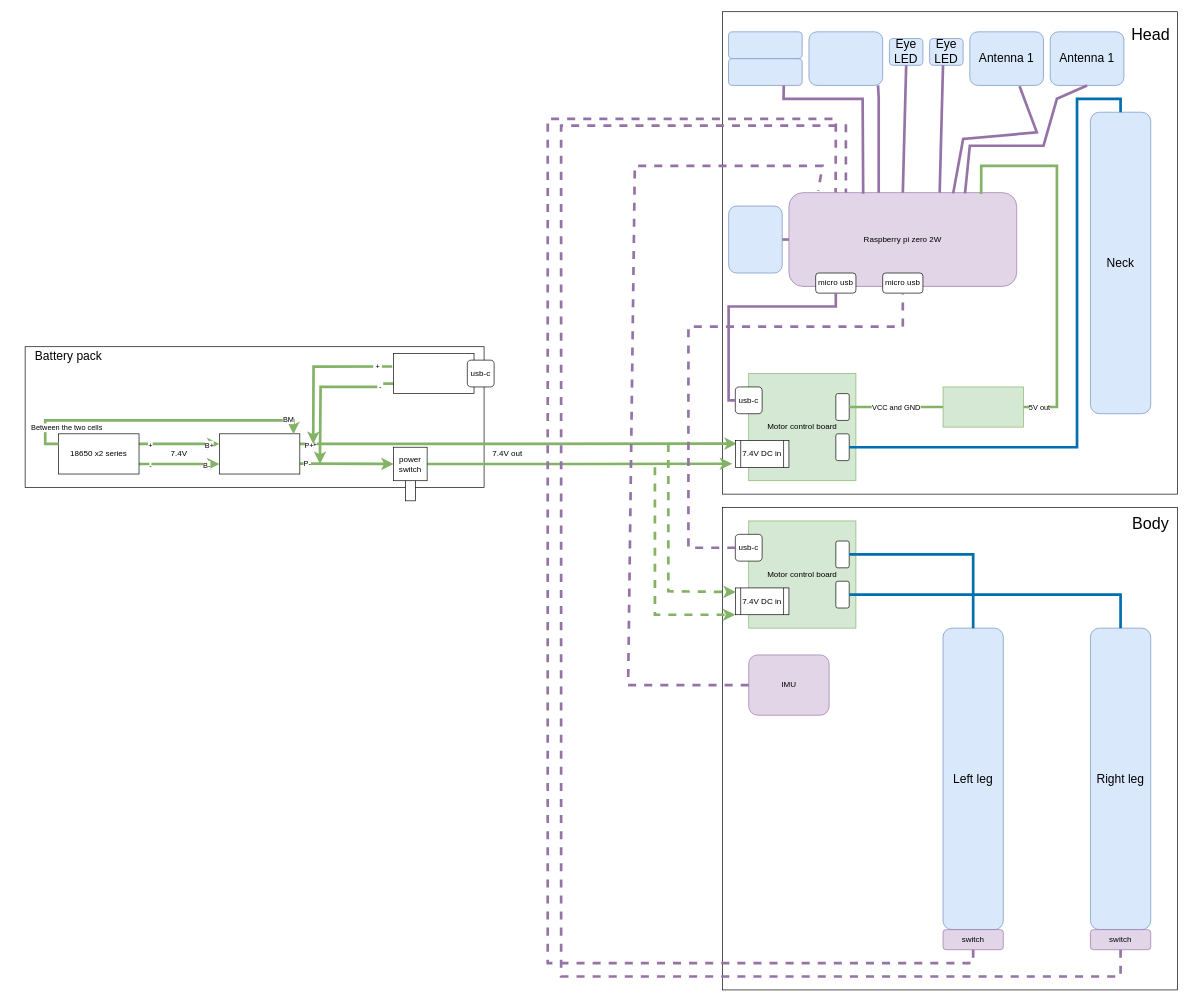
The diagram is 1189 pixels wide and 1002 high, and some of its shapes have lost their labels. Each missing label, with the centre of its shape:
"BMS" belongs at (x=259, y=453).
"Camera" belongs at (x=755, y=239).
"flashlight" belongs at (x=845, y=58).
"Mic" belongs at (x=765, y=45).
"Speaker" belongs at (x=765, y=71).
"UBEC" belongs at (x=982, y=406).
"USB-C charger" belongs at (x=433, y=373).
